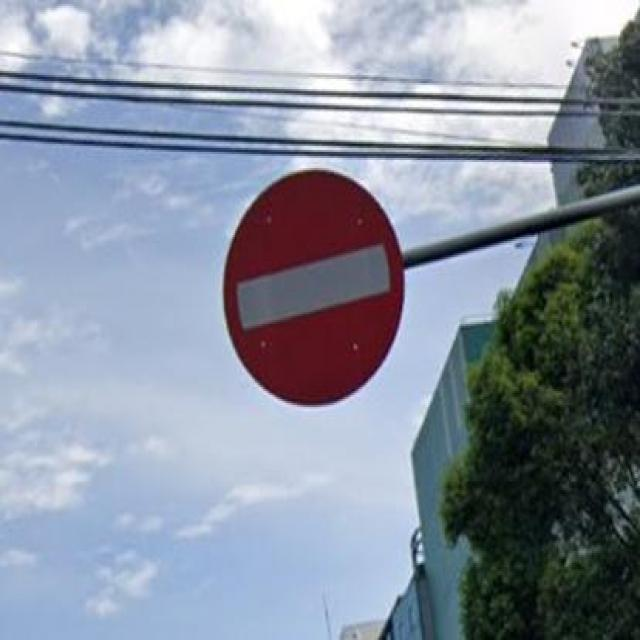traffic sign: (225, 176, 401, 407)
